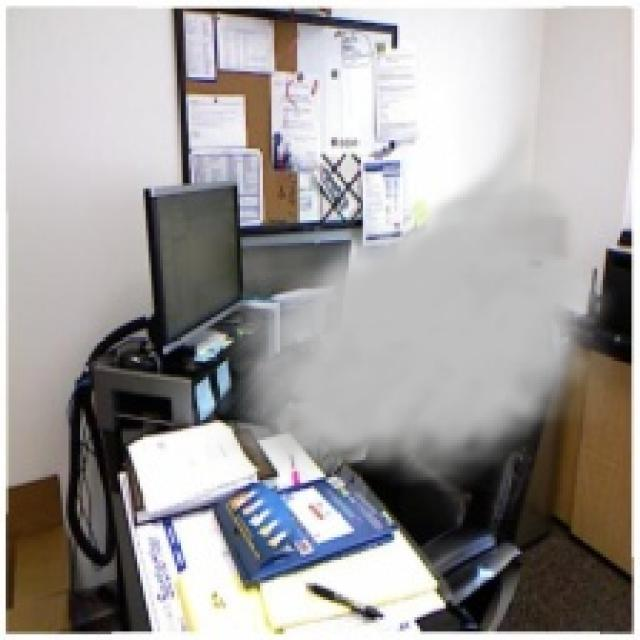Smoke: (206, 106, 623, 492)
